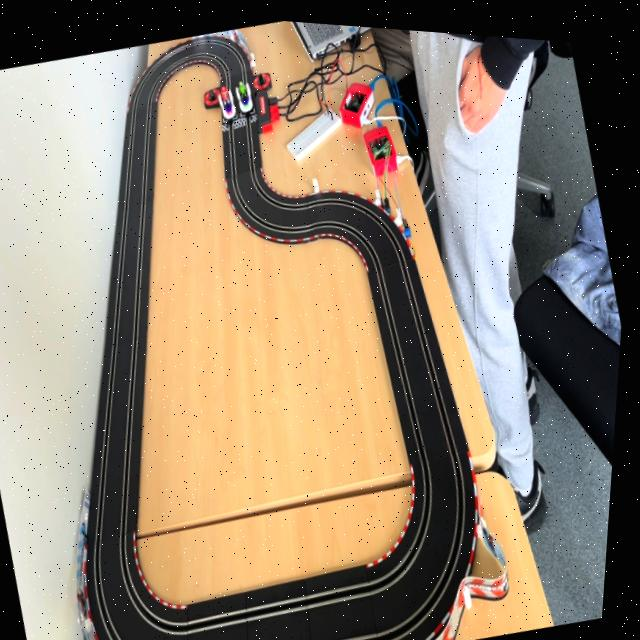mario: (216, 80, 241, 119)
yoshi: (235, 75, 259, 113)
